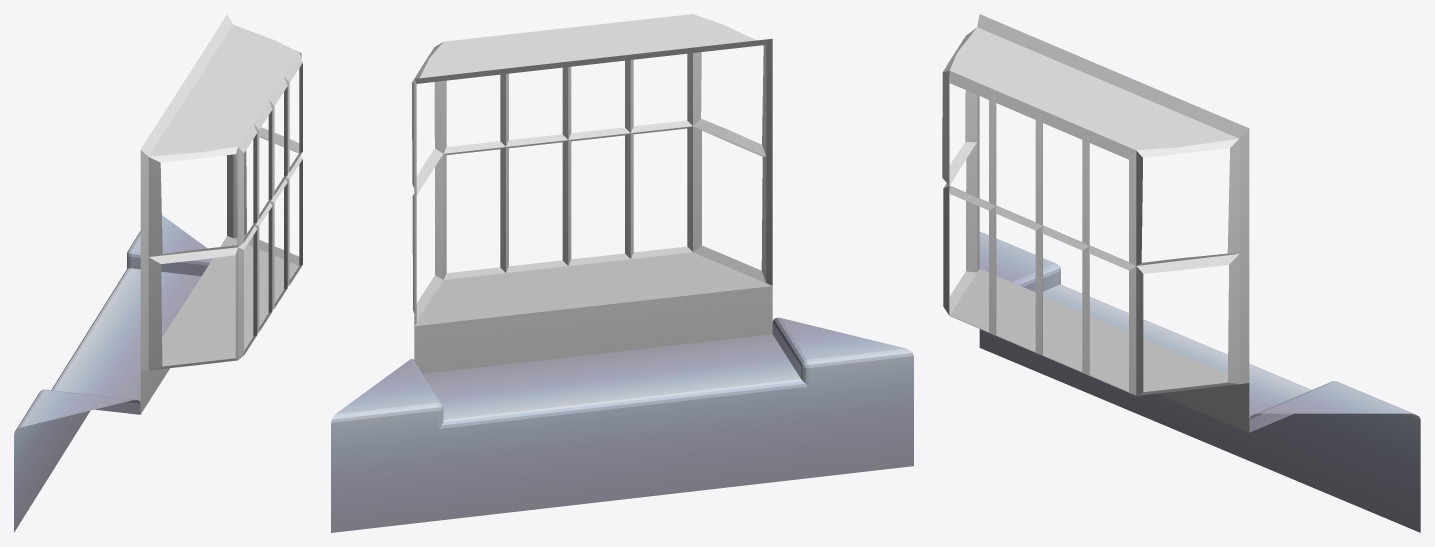
Rendered from Boundaries_window.fbx.
3 renders of one model, left to right at view 1: azimuth 30°, elevation 25°; view 2: azimuth 150°, elevation 25°; view 3: azimuth 270°, elevation 25°, orthographic. The views are drawn at different scales.
Parts seen in each view (by area): view 1: LateralWindow; view 2: LateralWindow; view 3: LateralWindow.
Part boxes in pixels (x1,y1,x2,y2): LateralWindow: (14, 14, 302, 532); LateralWindow: (331, 14, 913, 532); LateralWindow: (942, 14, 1420, 532).
Size of the model in its own units: 20.07 by 18.83 by 20.18.
Materials: 1 (1 with a texture image).
